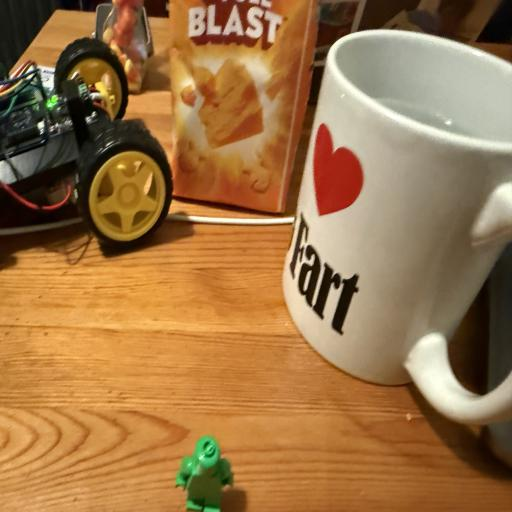Minifig: (176, 436, 233, 512)
